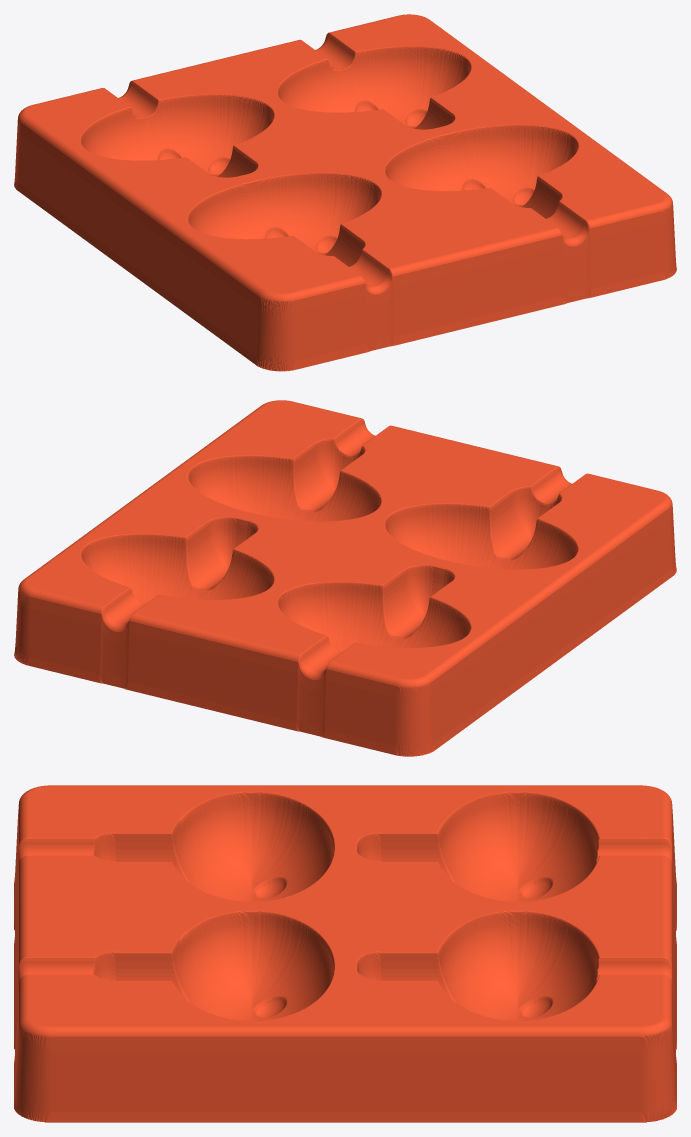
Rendered from mold.glb.
3 views of the same model, one above another, from view 1: azimuth 30°, elevation 25°; view 2: azimuth 150°, elevation 25°; view 3: azimuth 270°, elevation 25° (orthographic). The views are drawn at different scales.
Parts seen in each view (by area): view 1: geometry_0; view 2: geometry_0; view 3: geometry_0.
Boxes of the visible parts, x1,y1,x2,y2 form: geometry_0: (14,14,676,371); geometry_0: (14,400,676,756); geometry_0: (14,785,676,1122).
Size of the model in its own units: 0.1468 by 0.0245 by 0.1631.
